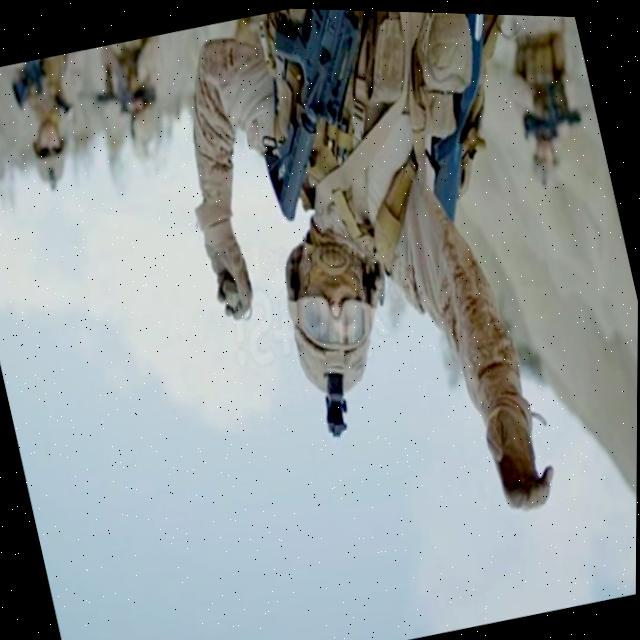grenade: (210, 268, 261, 329)
